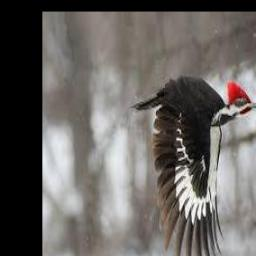Woodpecker: (132, 78, 256, 256)
